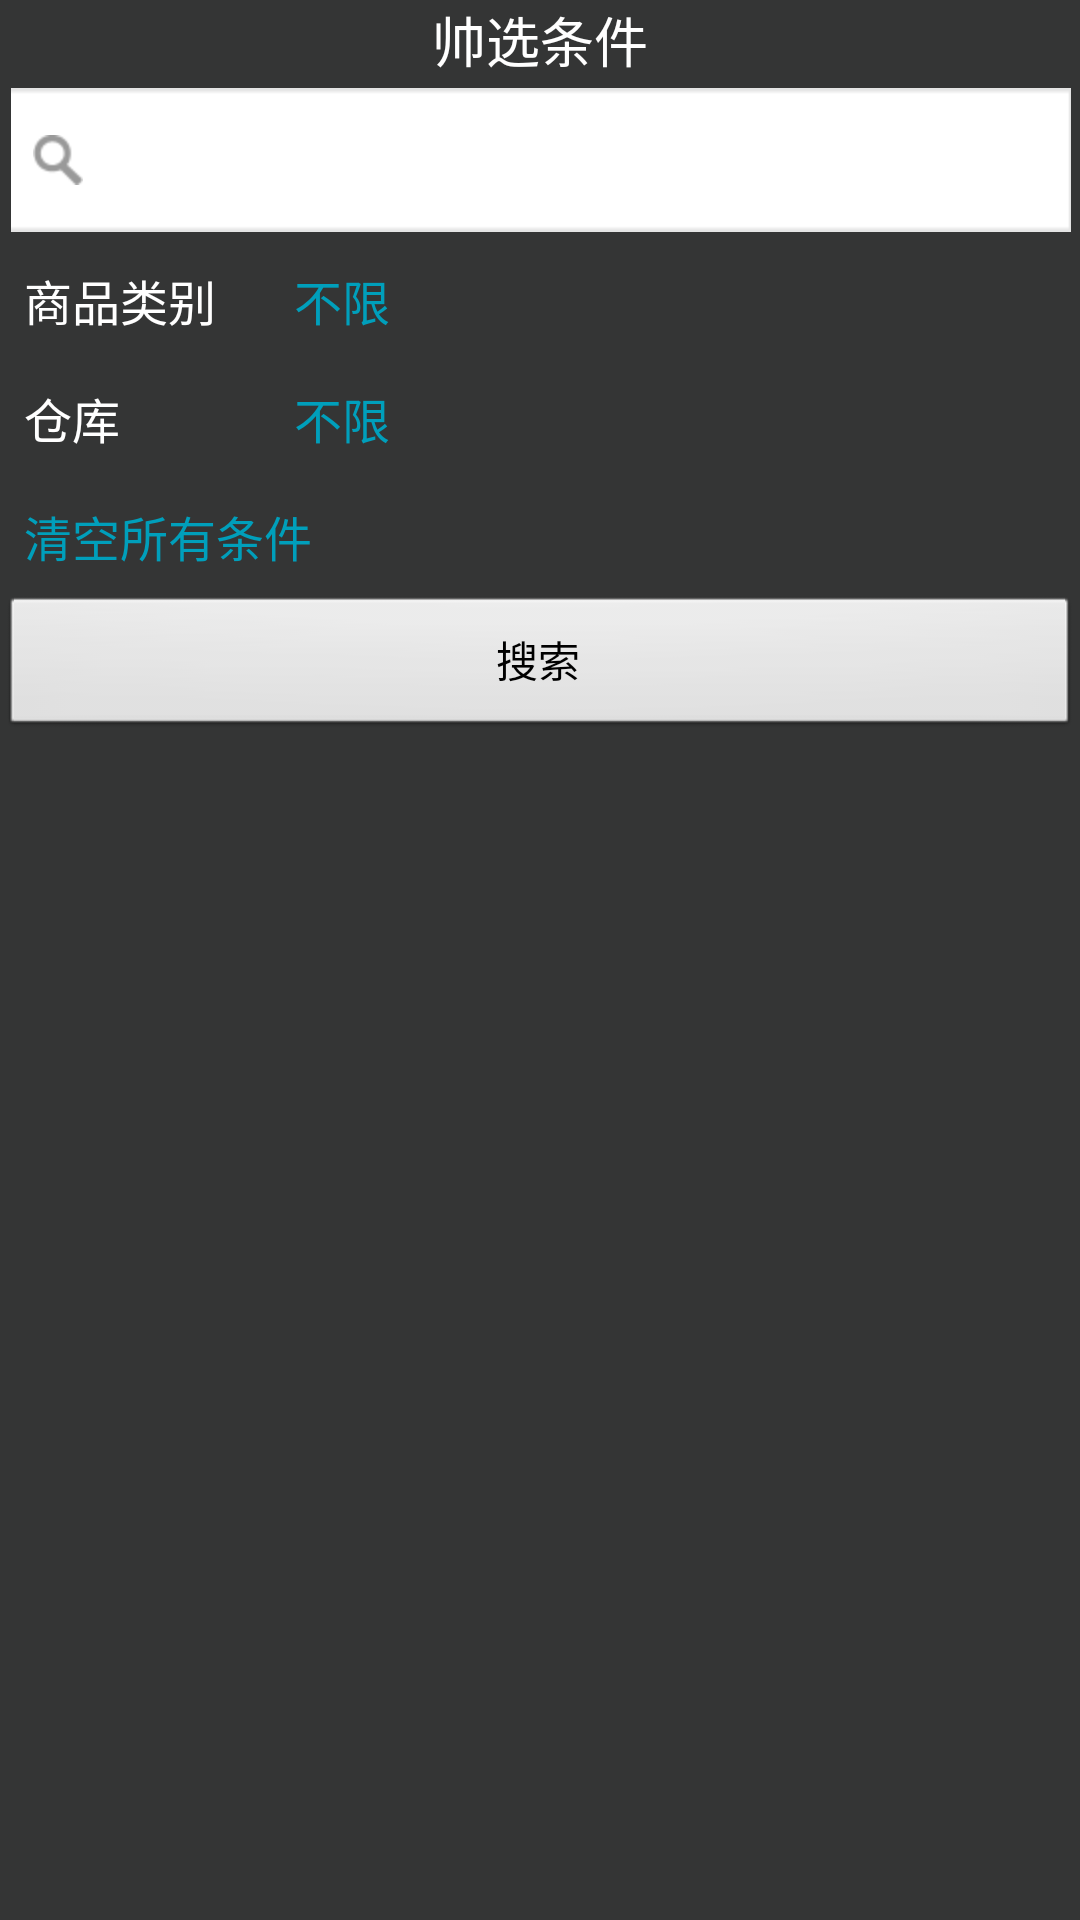

Screen size 1080x1920. Icon name, then its center in pixels as [x,y]:
search: [58,160]
